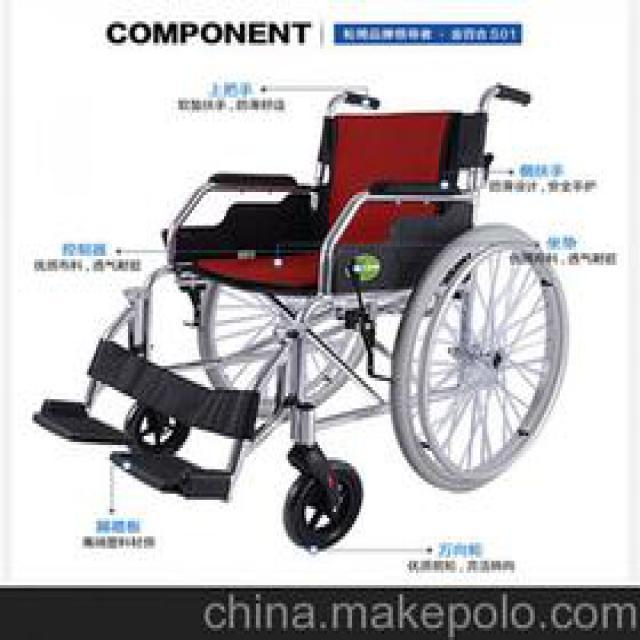wheelchair: (28, 64, 580, 536)
